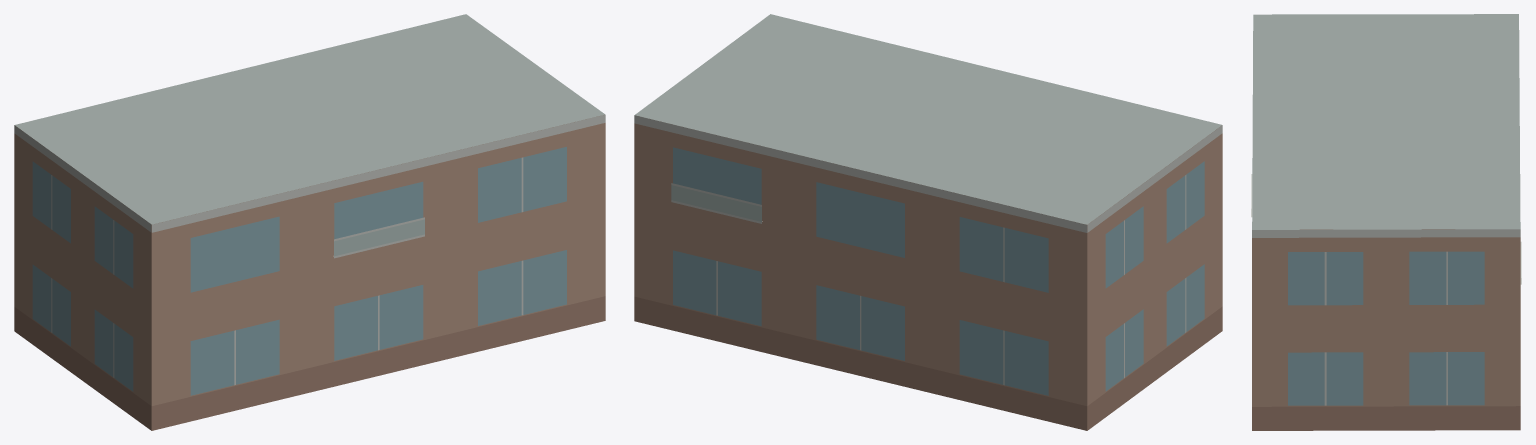
The model's file is survey-upis-32815229.glb.
3 views of the same model, side by side, from view 1: azimuth 30°, elevation 25°; view 2: azimuth 150°, elevation 25°; view 3: azimuth 270°, elevation 25° (orthographic). The views are drawn at different scales.
Visible parts, largest first — view 1: survey-upis-32815229.tmp; view 2: survey-upis-32815229.tmp; view 3: survey-upis-32815229.tmp.
Part boxes in pixels (box(x1,y1,x2,y2)): survey-upis-32815229.tmp: box(14, 14, 605, 430); survey-upis-32815229.tmp: box(634, 14, 1222, 430); survey-upis-32815229.tmp: box(1251, 14, 1521, 430).
Size of the model in its own units: 14.07 by 6.1 by 7.45.
